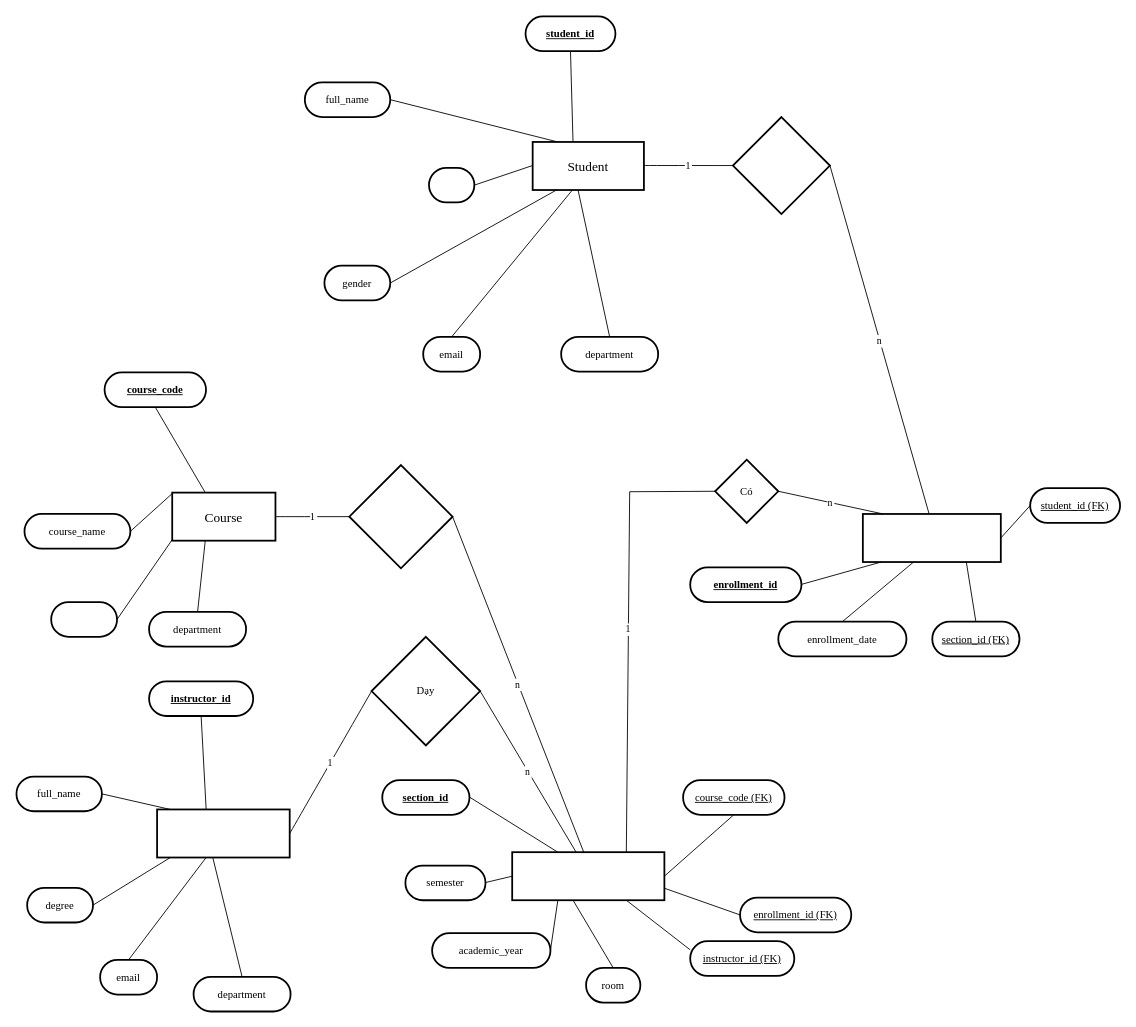
Some shapes in this 1136 by 1027 pixel diagram are drawn without their labels. Each missing label, with the centre of its shape:
Class Section: [588,876]
credits: [83,619]
dob: [451,184]
Enrollment: [931,537]
Instructor: [223,833]
Thuộc về: [400,516]
Đăng ký: [781,165]
